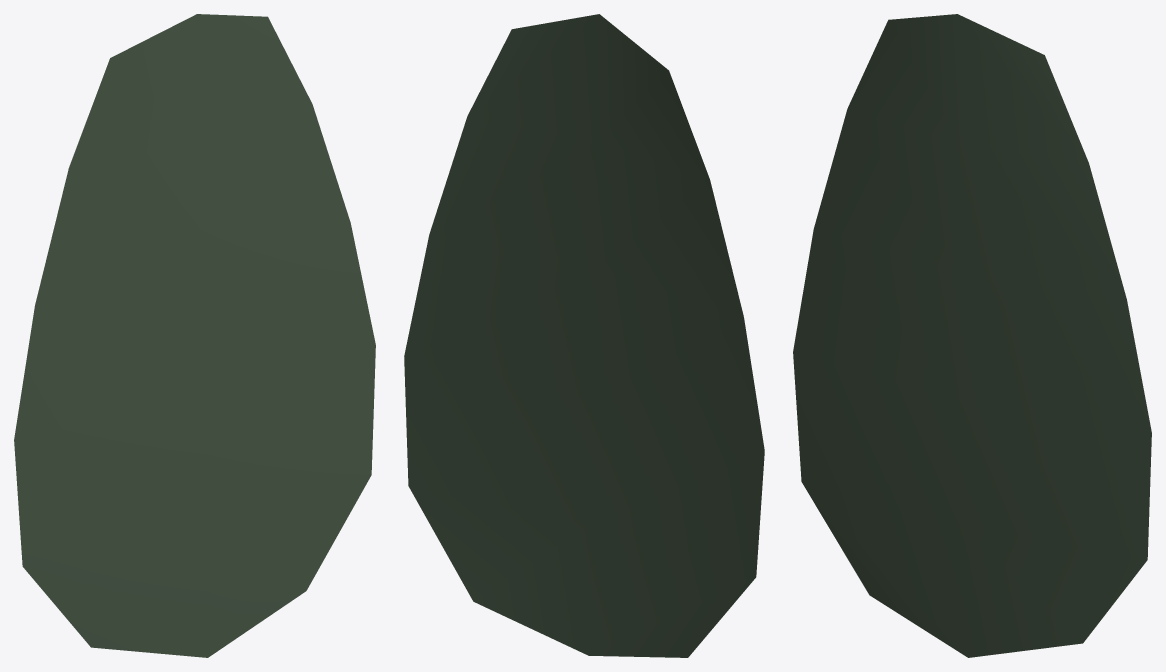
Rendered from duck_feather_flight_tertiary_004.obj.
The picture shows the model from 3 angles, left to right: view 1: azimuth 30°, elevation 25°; view 2: azimuth 150°, elevation 25°; view 3: azimuth 330°, elevation 25°; orthographic projection.
Parts seen in each view (by area): view 1: feather_flight_tertiary_004; view 2: feather_flight_tertiary_004; view 3: feather_flight_tertiary_004.
Boxes of the visible parts, bbox=[...] form: feather_flight_tertiary_004: bbox=[14, 14, 375, 657]; feather_flight_tertiary_004: bbox=[404, 14, 764, 657]; feather_flight_tertiary_004: bbox=[793, 14, 1151, 657].
Bounding box in the file's own units: 0.0154 × 0.0263 × 0.000633.
